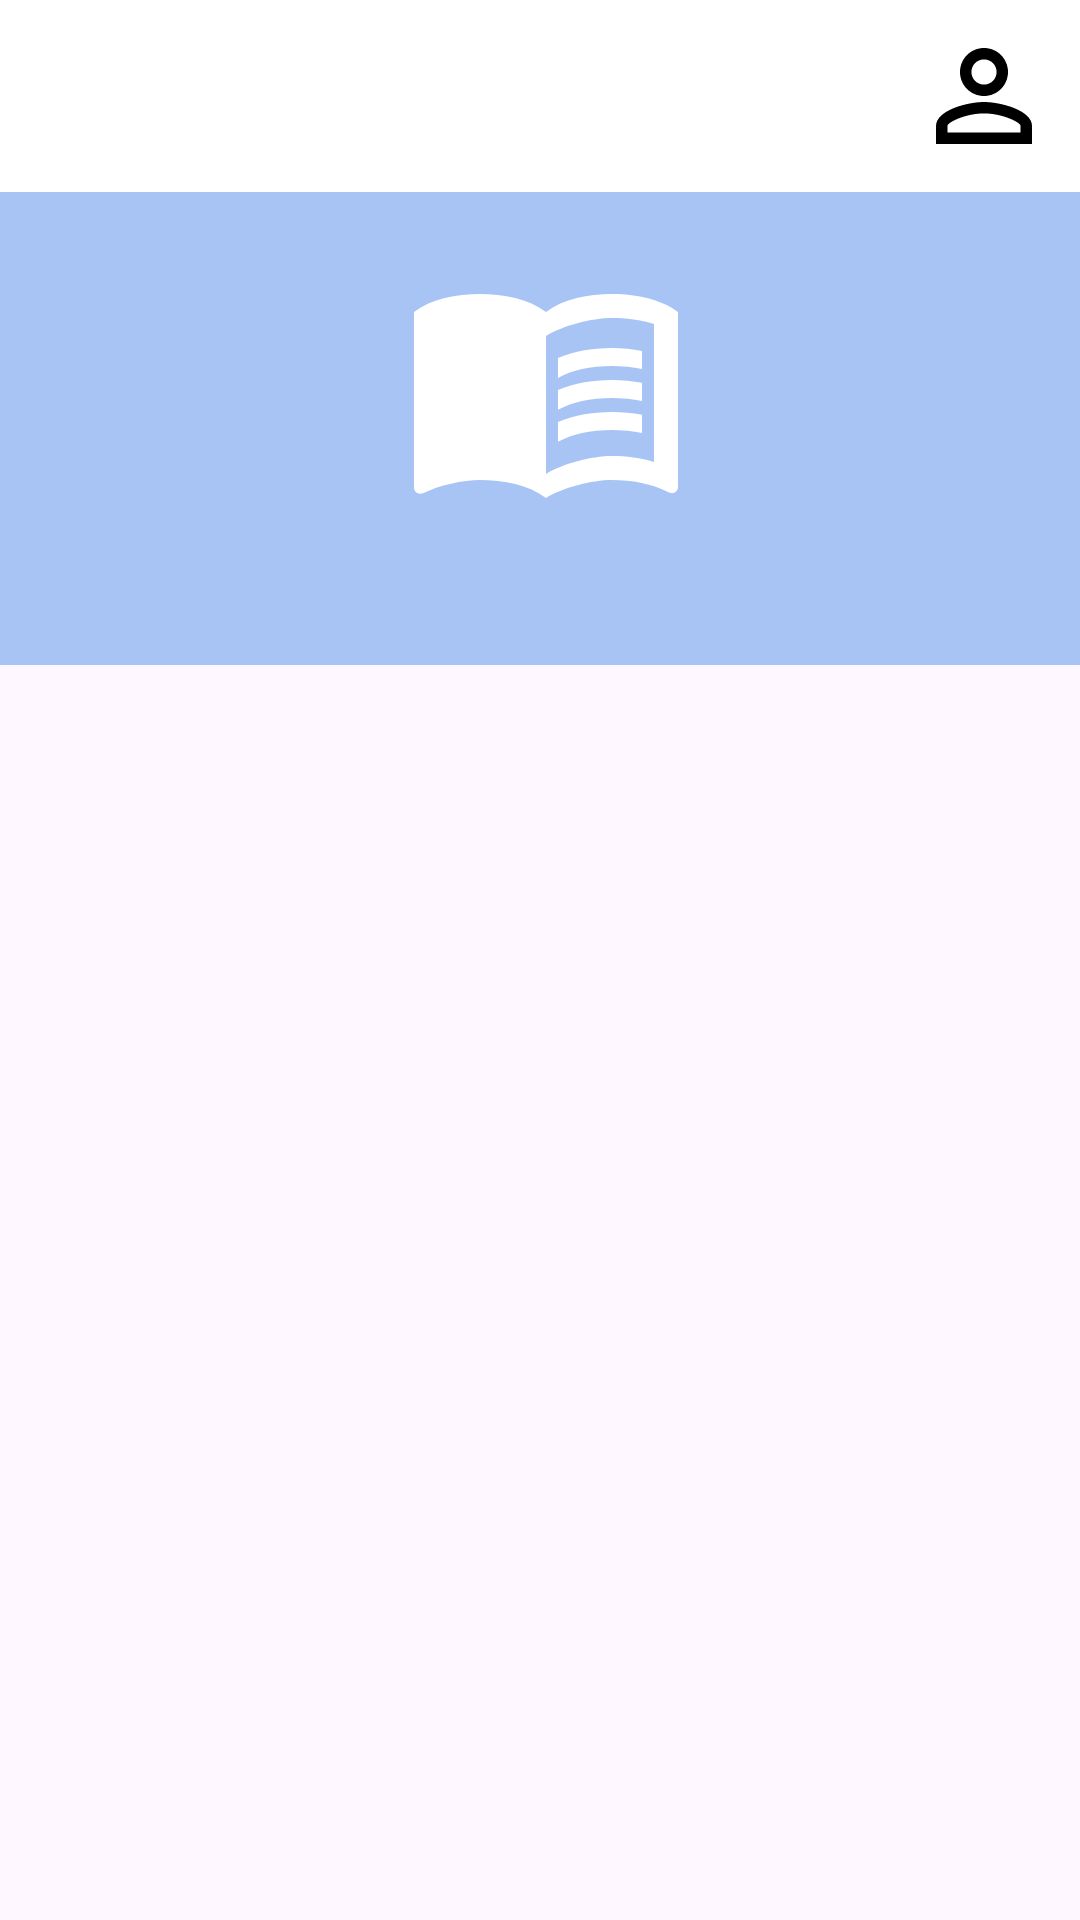

Named icons in this screenshot (1080px×1920px) and their centers, (x=x, y=y):
book: (x=546, y=396)
Profile: (x=984, y=96)
